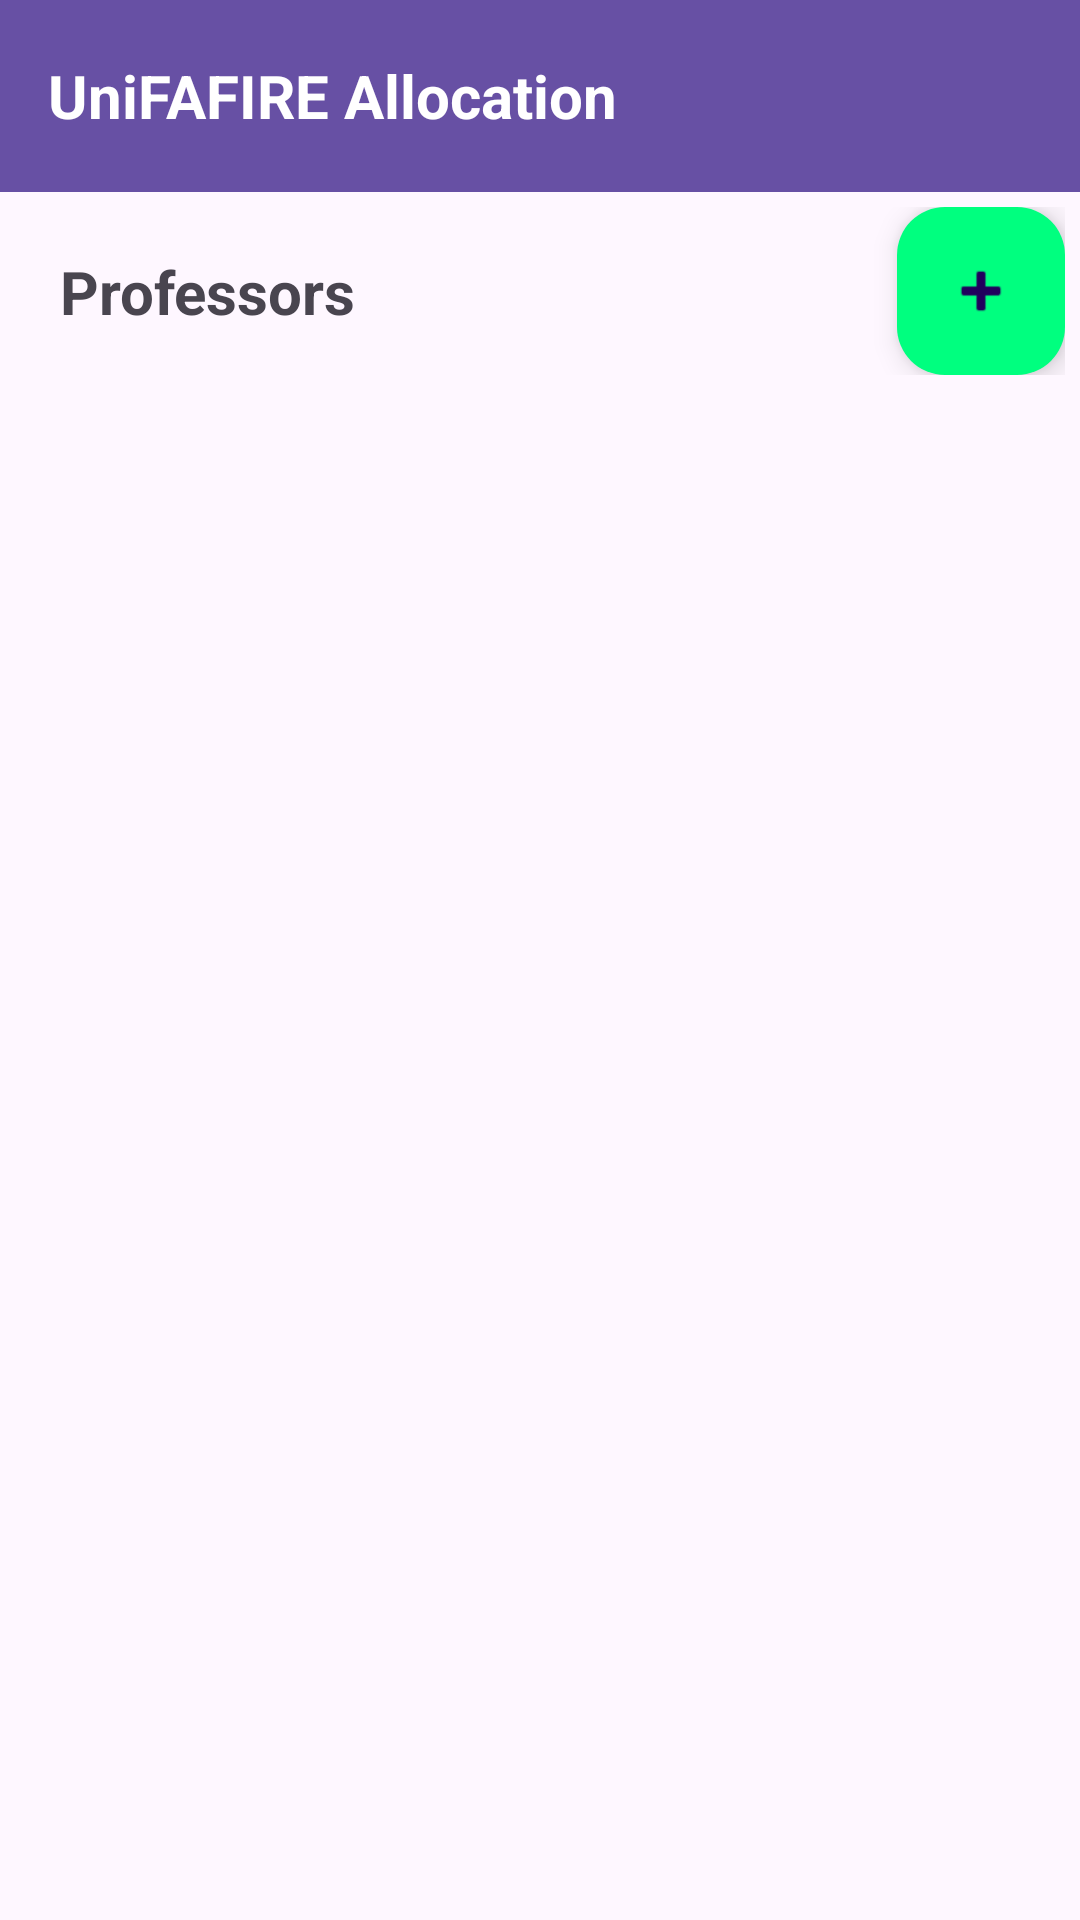

Icon click points for this 1080x1920 phone screenshot, format (x=x, y=y):
add: (x=981, y=291)
